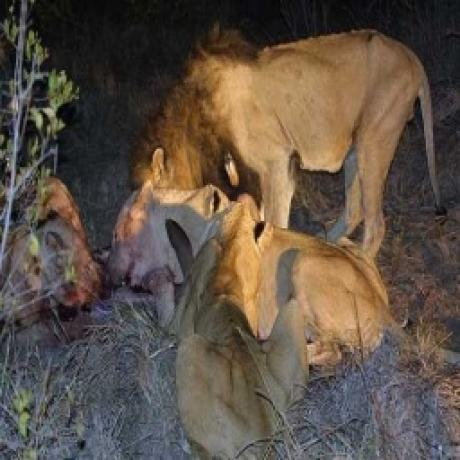Lion: (128, 32, 448, 256)
